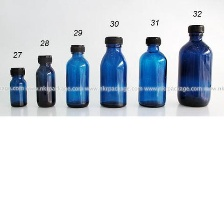bottle: (174, 21, 215, 112), (136, 32, 169, 109), (97, 34, 130, 110), (61, 43, 93, 109), (33, 52, 57, 112), (5, 64, 30, 108)
